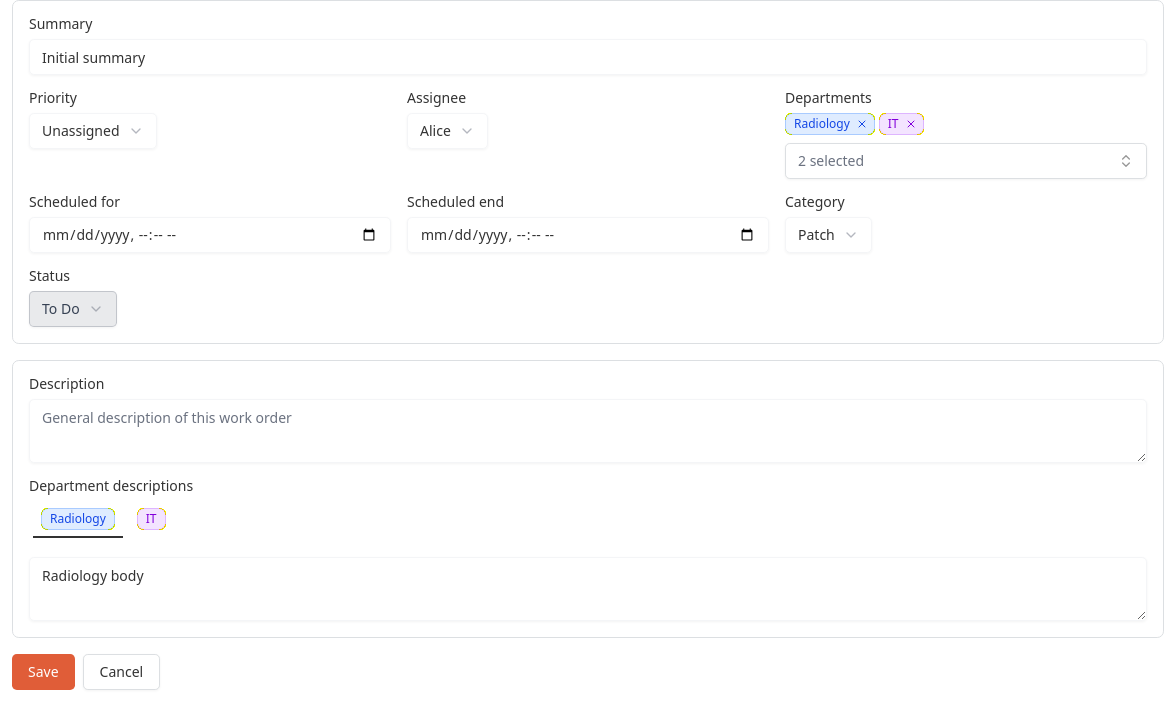
Test case: TicketEditForm › falls back to a remaining description tab when the active department is removed
Check: the text box showing "Radiology body" is shown, box [29, 557, 1147, 621]
What coordinates should you click on to do the following:
click the button named "remove radiology"
I would click on:
 (862, 124)
Its box is [854, 116, 870, 132].
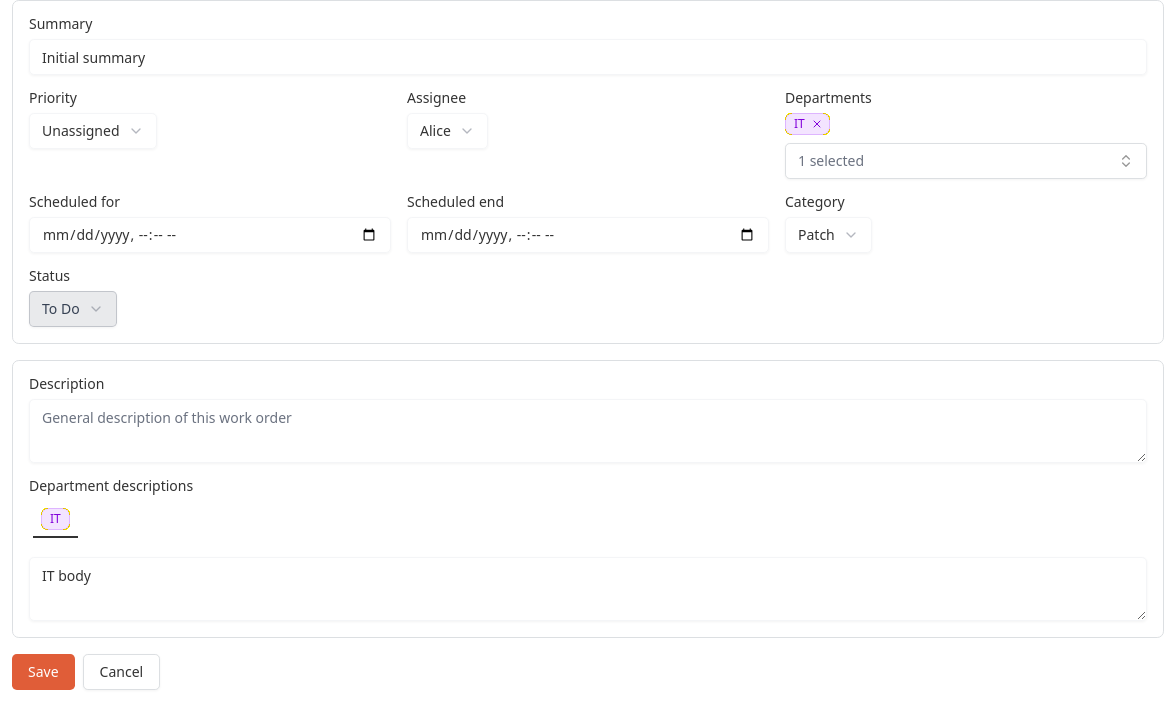
Check: the text box showing "IT body" is shown, box [29, 557, 1147, 621]
